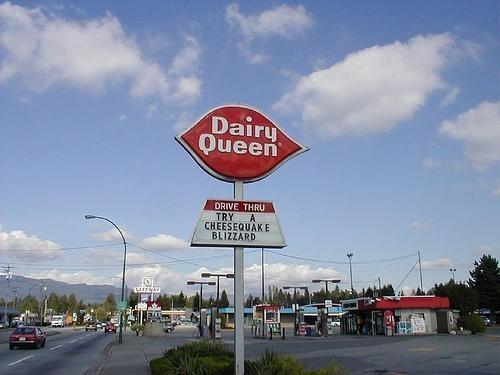car: (10, 326, 46, 350), (161, 320, 182, 334), (84, 321, 98, 331), (480, 316, 491, 326), (105, 323, 116, 333), (330, 319, 340, 327), (96, 322, 103, 330), (101, 320, 107, 326), (114, 318, 119, 324)
